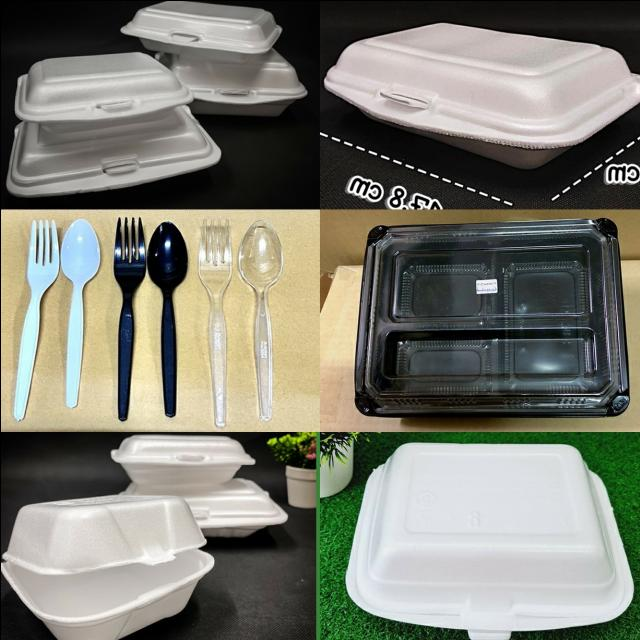plastik: (345, 441, 632, 640), (354, 218, 628, 416), (323, 22, 640, 168), (0, 494, 213, 640), (5, 105, 219, 195), (14, 51, 192, 122), (155, 47, 306, 115), (13, 219, 59, 419), (238, 219, 282, 420), (120, 0, 281, 52), (146, 221, 187, 416), (110, 434, 255, 489), (60, 218, 99, 407), (197, 218, 231, 427), (112, 217, 145, 420), (182, 478, 287, 536)
